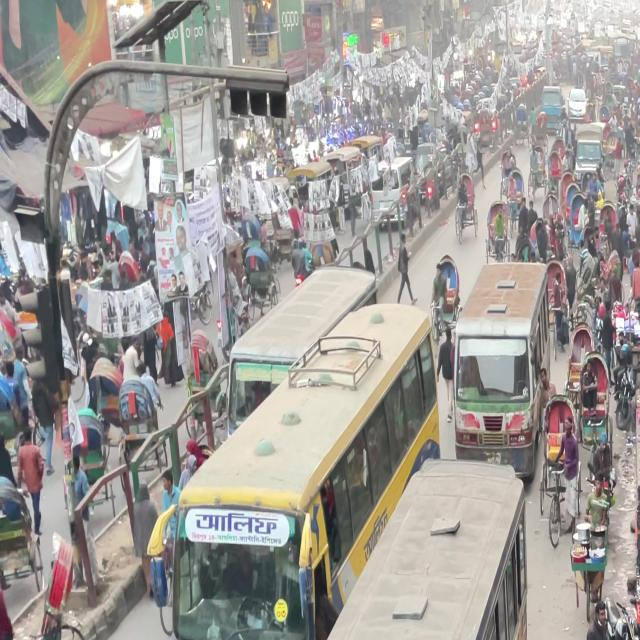bus: (150, 266, 446, 640), (303, 442, 535, 640), (446, 222, 564, 448)
